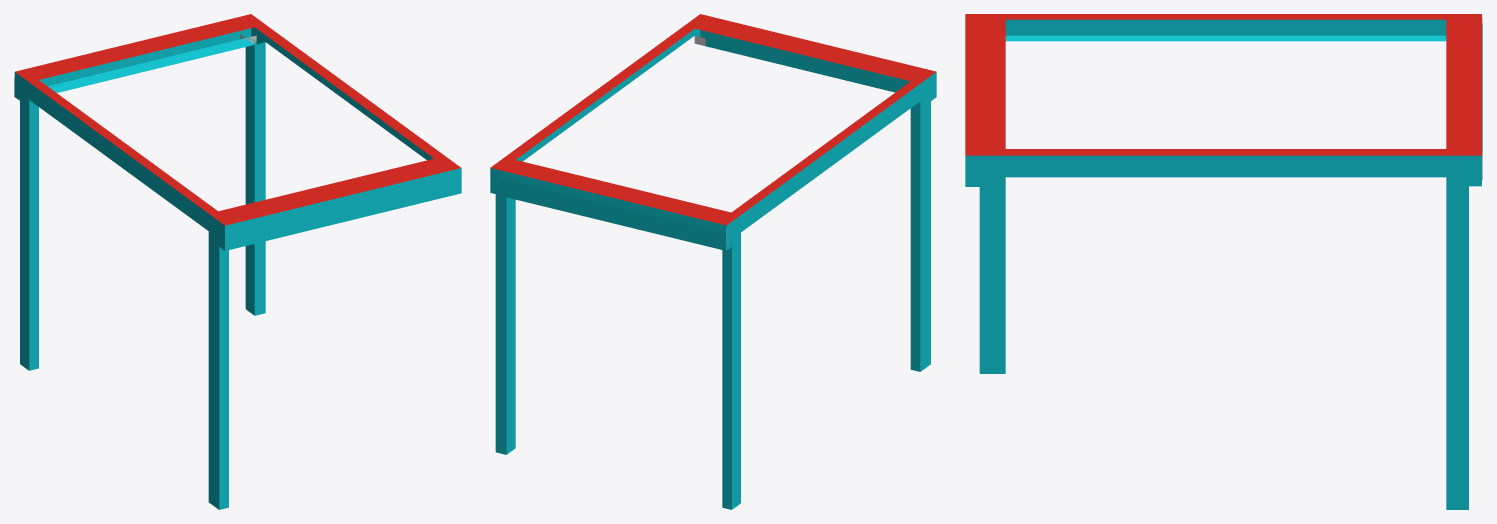
Rendered from studentdesk2colorbroken.glb.
3 views of the same model, side by side, from view 1: azimuth 30°, elevation 25°; view 2: azimuth 150°, elevation 25°; view 3: azimuth 270°, elevation 25° (orthographic). The views are drawn at different scales.
Parts seen in each view (by area): view 1: Cube; view 2: Cube; view 3: Cube.
Part boxes in pixels (left/top/right/bottom): Cube: left=14, top=14, right=461, bottom=509; Cube: left=490, top=14, right=936, bottom=509; Cube: left=965, top=14, right=1482, bottom=509.
Size of the model in its own units: 0.6851 by 0.7986 by 1.06.
